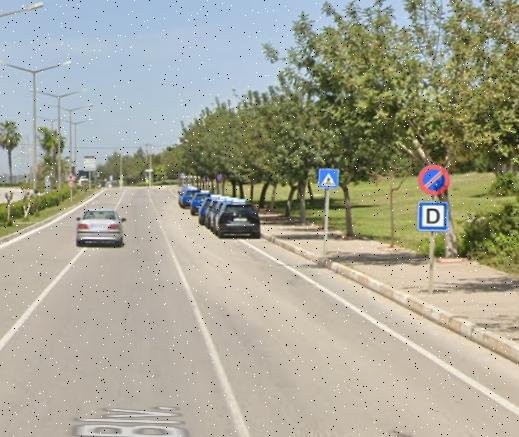nopark: (418, 165, 450, 194)
station: (419, 202, 448, 232)
